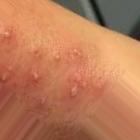Ants: (28, 68, 42, 83), (1, 28, 13, 42), (0, 68, 9, 86), (68, 82, 78, 96), (36, 95, 47, 106), (50, 50, 60, 61), (69, 49, 80, 59), (29, 46, 39, 56)
